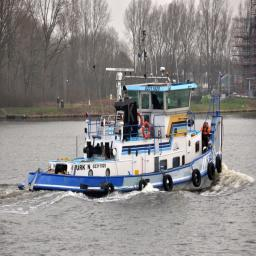tugboat: (17, 64, 226, 208)
